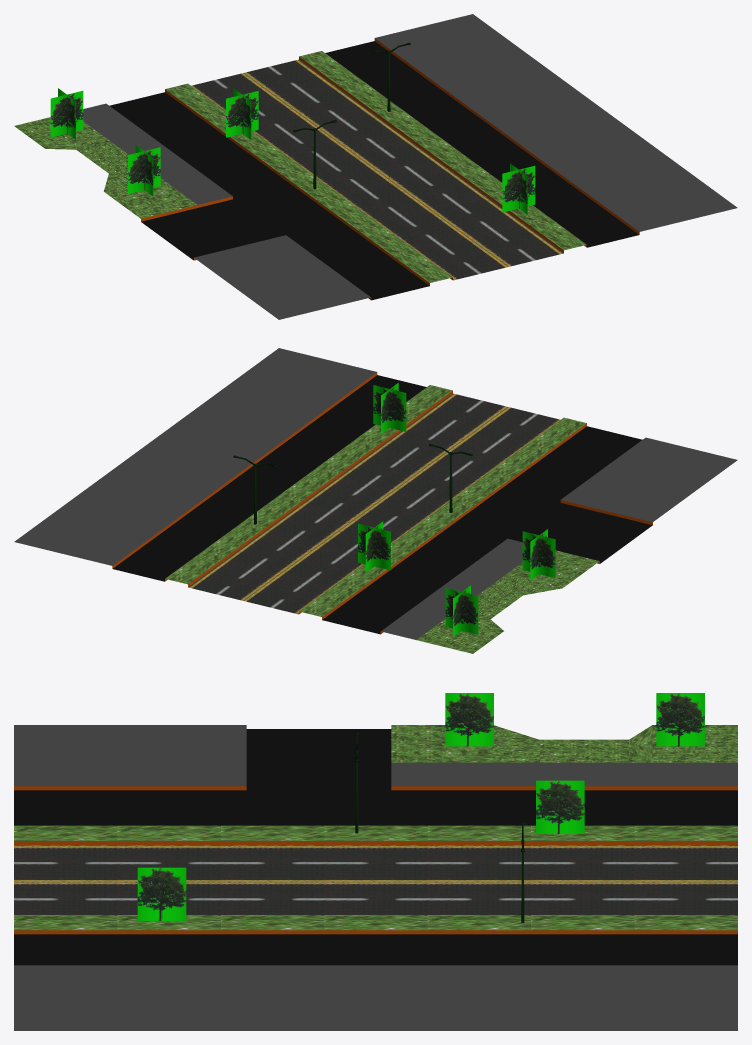
File: 0B_main_ex.obj
3 renders of one model, top to bottom at view 1: azimuth 30°, elevation 25°; view 2: azimuth 150°, elevation 25°; view 3: azimuth 270°, elevation 25°, orthographic. The views are drawn at different scales.
Parts seen in each view (by area): view 1: 0B_main_ex_Grid.012; view 2: 0B_main_ex_Grid.012; view 3: 0B_main_ex_Grid.012.
Part boxes in pixels (left/top/right/bottom): 0B_main_ex_Grid.012: left=14, top=14, right=737, bottom=319; 0B_main_ex_Grid.012: left=14, top=348, right=737, bottom=653; 0B_main_ex_Grid.012: left=14, top=693, right=737, bottom=1030.
Size of the model in its own units: 16 by 2.2 by 16.
